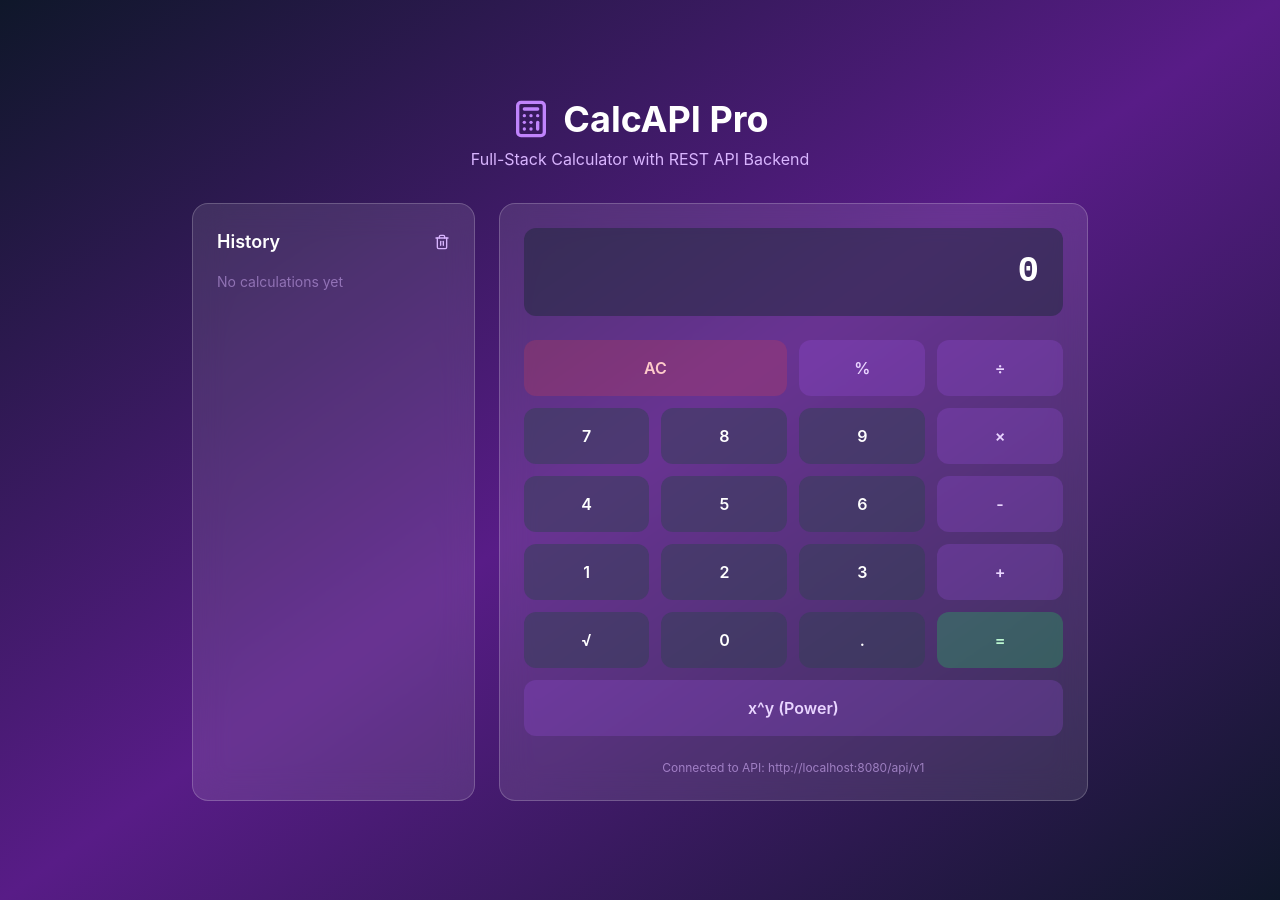
Test: Calculator App › handles number input
Click the button "5": [724, 504] box [662,476,787,532]
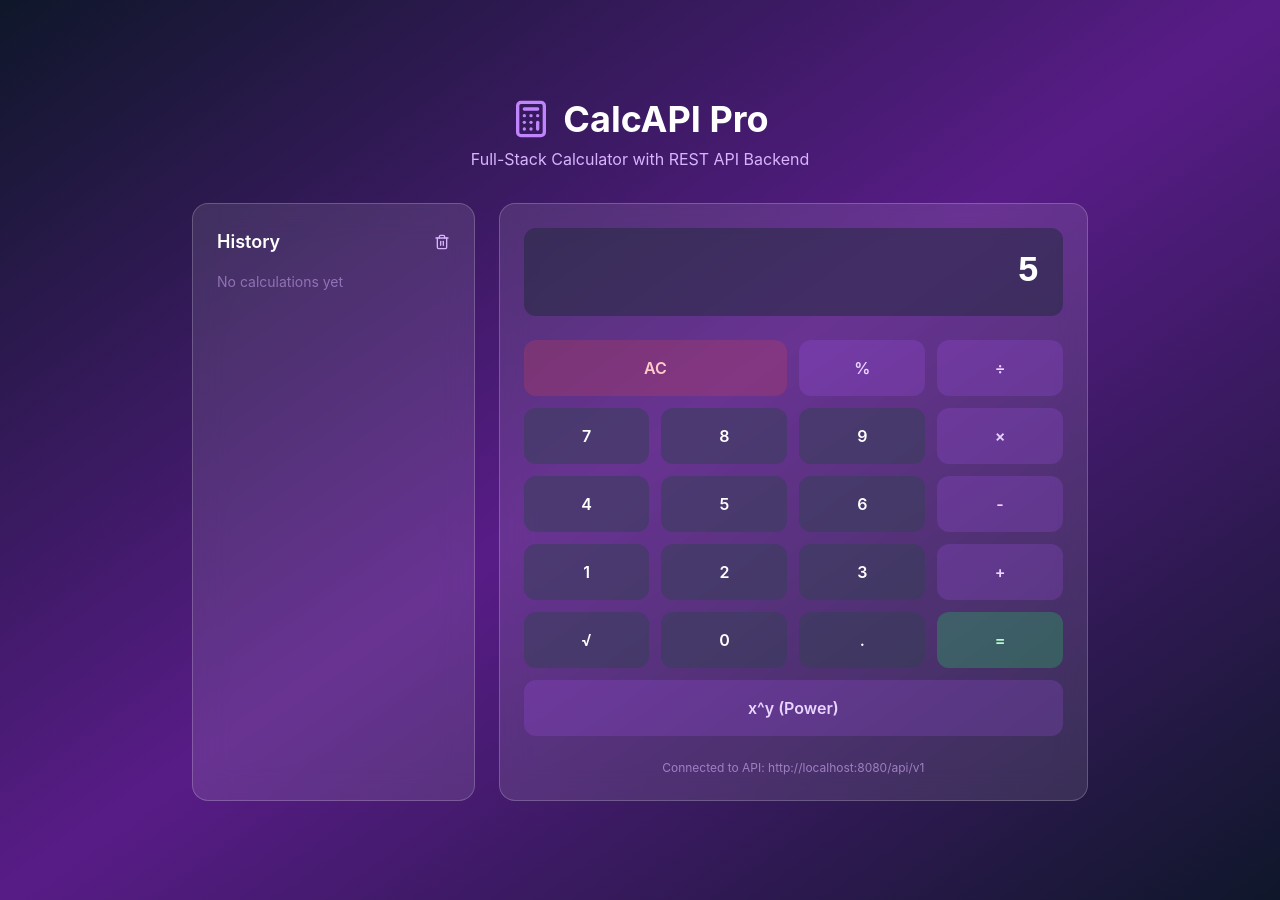
Expected: the text "5" is shown, [1017,251,1039,292]
